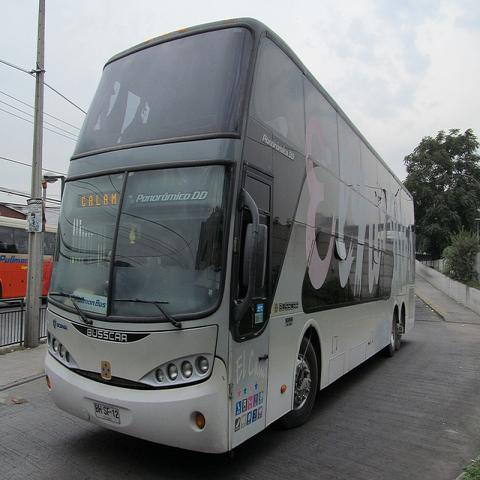bus: (42, 18, 417, 452)
